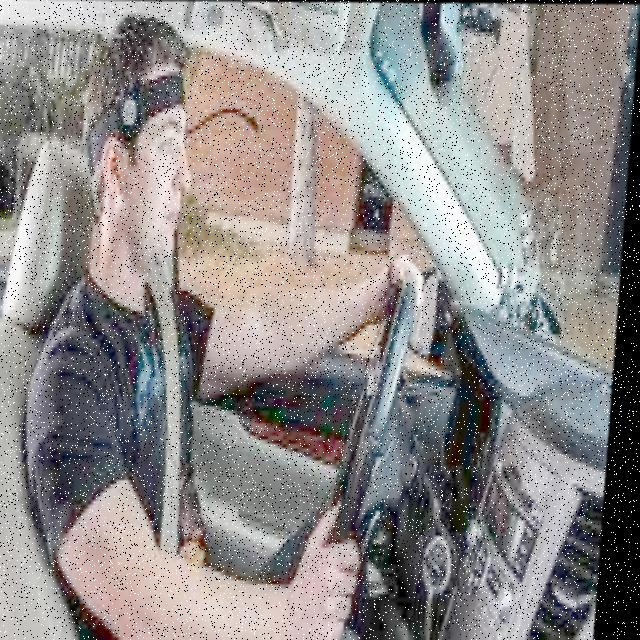seatbelt: (76, 264, 218, 596)
